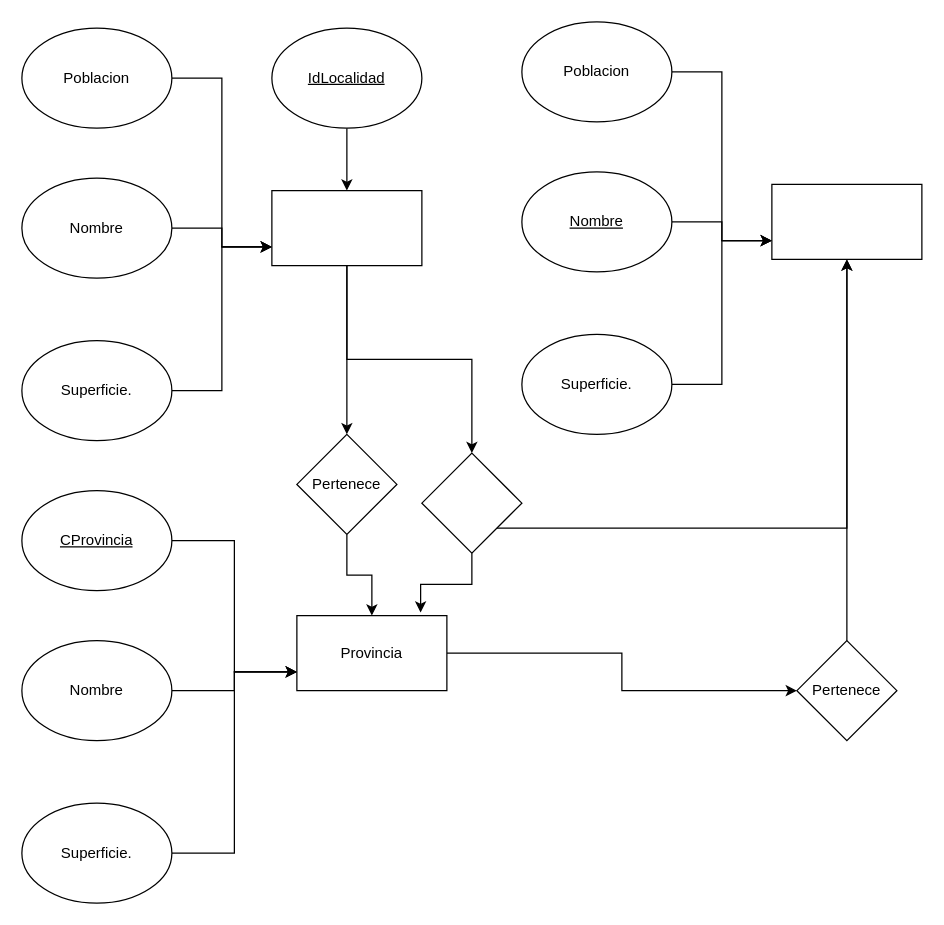
Some shapes in this 944 by 925 pixel diagram are drawn without their labels. The centre of each missing label's shape, as x and y in pixels:
Comunidad: point (846, 221)
Es Capital: point (471, 502)
Localidad.: point (346, 227)
